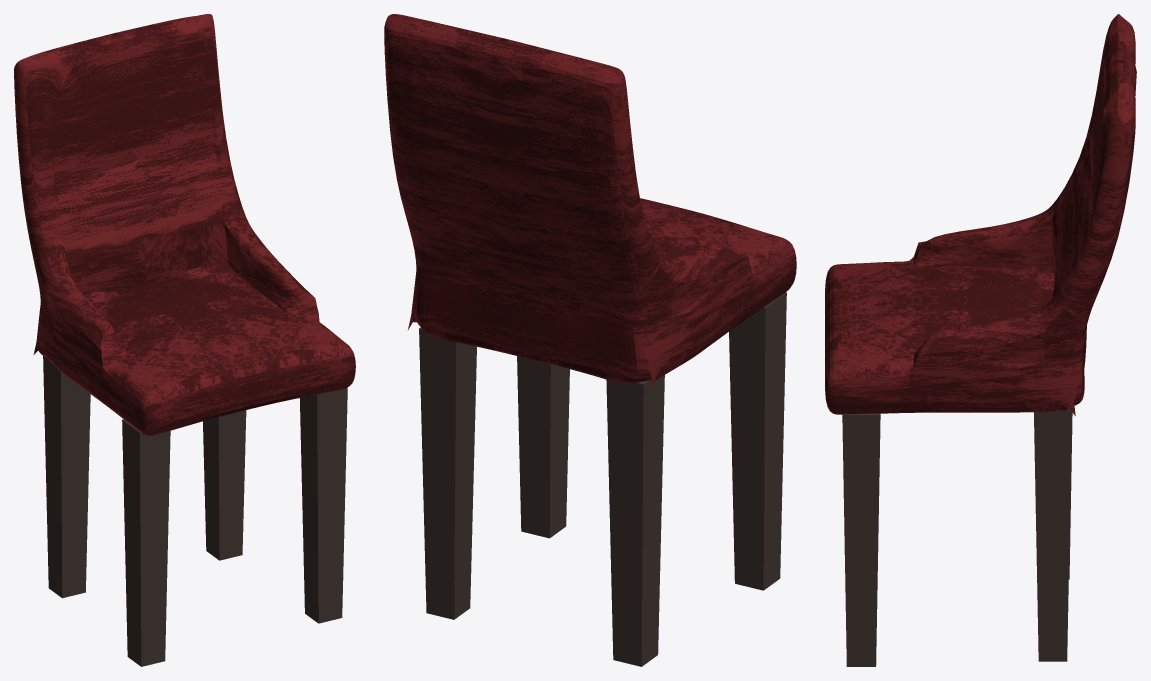
File: chair.glb
The picture shows the model from 3 angles, left to right: view 1: azimuth 30°, elevation 25°; view 2: azimuth 150°, elevation 25°; view 3: azimuth 270°, elevation 25°; orthographic projection. The views are drawn at different scales.
Visible parts, largest first — view 1: Seat and arms, Front Legs, Back Legs, Back Legs.001; view 2: Seat and arms, Front Legs, Back Legs, Back Legs.001; view 3: Seat and arms, Front Legs, Back Legs.001.
Part boxes in pixels (box(x1,y1,x2,y2)): Seat and arms: box(14, 14, 355, 435); Front Legs: box(122, 387, 347, 666); Back Legs: box(43, 356, 90, 598); Back Legs.001: box(203, 410, 246, 560); Seat and arms: box(384, 14, 796, 390); Front Legs: box(517, 292, 786, 590); Back Legs: box(606, 375, 664, 666); Back Legs.001: box(419, 327, 476, 619); Seat and arms: box(825, 14, 1136, 415); Front Legs: box(842, 413, 880, 666); Back Legs.001: box(1034, 409, 1071, 661).
Bounding box in the file's own units: 2.56 × 5.81 × 2.97.
Materials: 2 (1 with a texture image).
